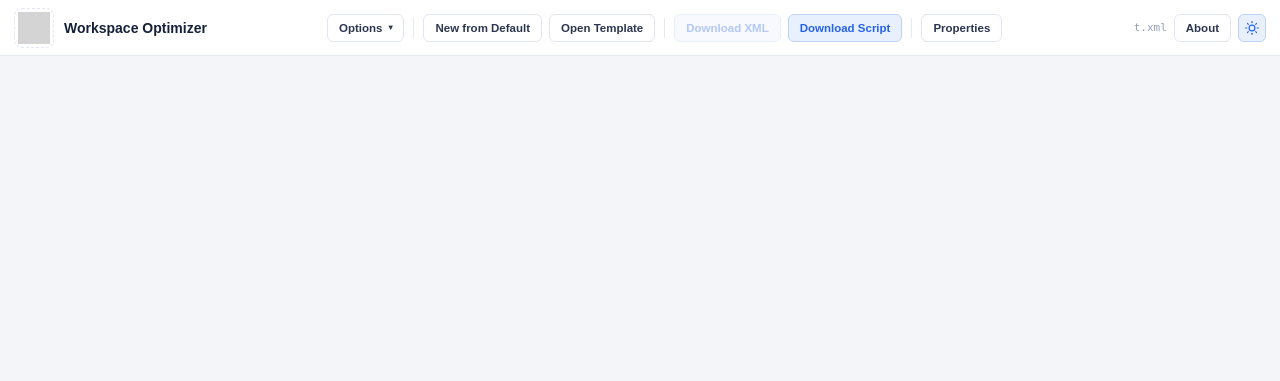
Test: the toolbar exposes both import routes through one Add from… menu
Expected: the element with class "tb-btn" does not show "Marketplace"
Expected: the element with class "tb-btn" does not show "Import .reg file"
Note: Both import routes are reachable through the submenu.
Click the button with class "om-trigger" at (366, 28), box x1=327 y1=14 x2=404 y2=42
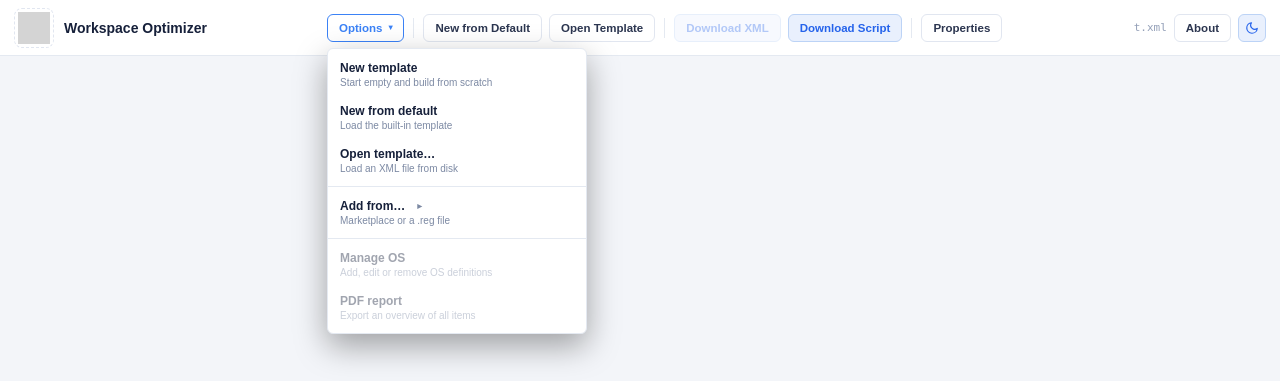
Hover over the element with class "om-sub-wrap" at (457, 212), box x1=328 y1=190 x2=586 y2=234
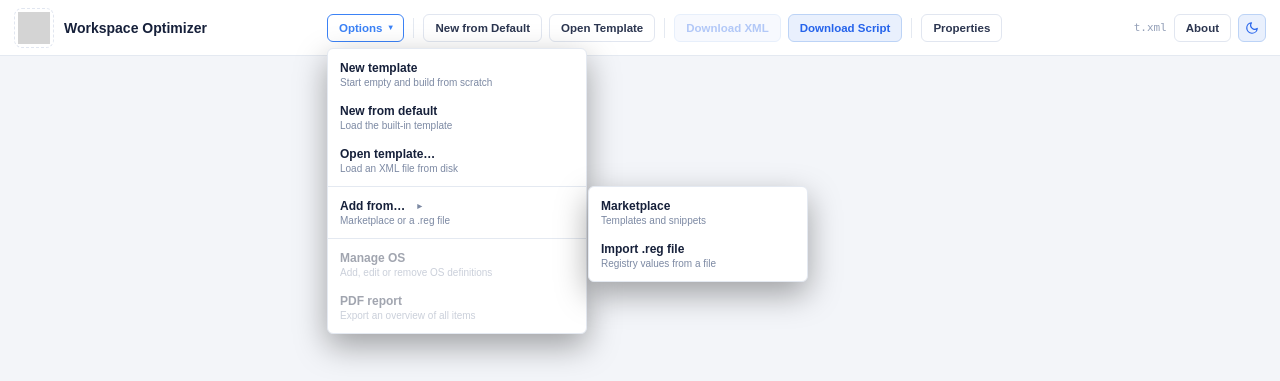
Expected: the button with class "om-item" shows "Marketplace", x1=589 y1=190 x2=807 y2=234
Expected: the button with class "om-item" shows "Import .reg file", x1=589 y1=234 x2=807 y2=276
